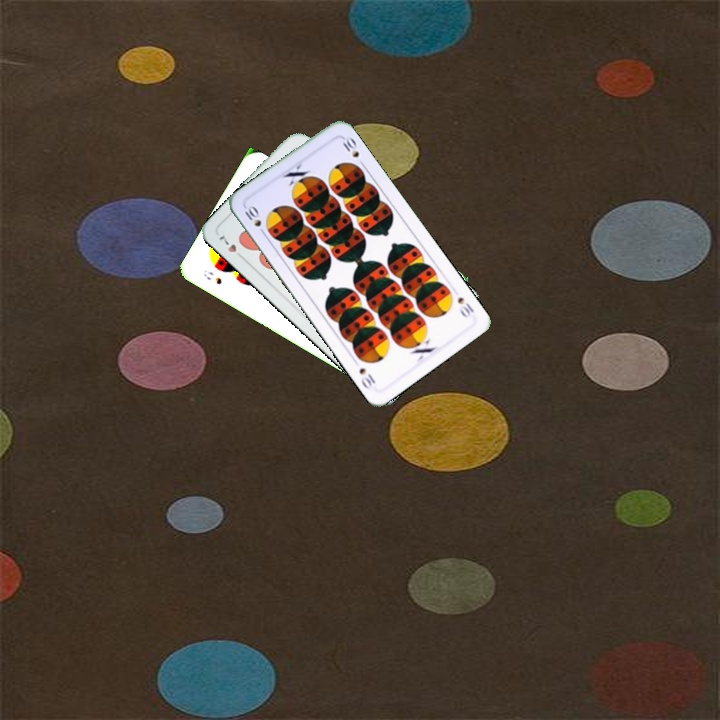H7: (214, 232, 247, 262)
S10: (240, 201, 268, 238), (453, 293, 477, 320)
S8: (199, 266, 224, 287)
